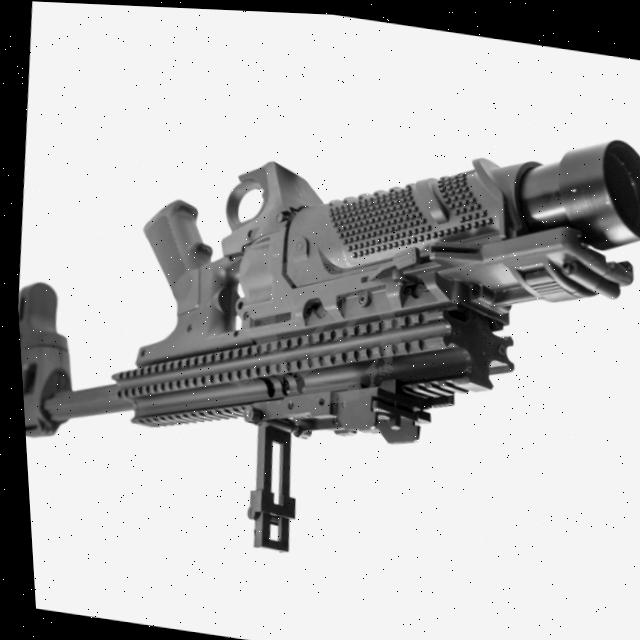firearm: (2, 52, 640, 602)
